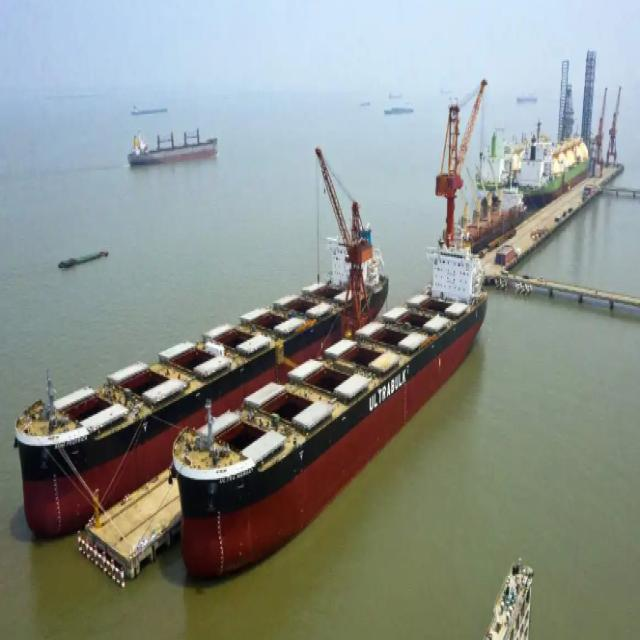cargoship: (11, 219, 386, 547), (166, 210, 487, 583), (125, 112, 219, 174)
